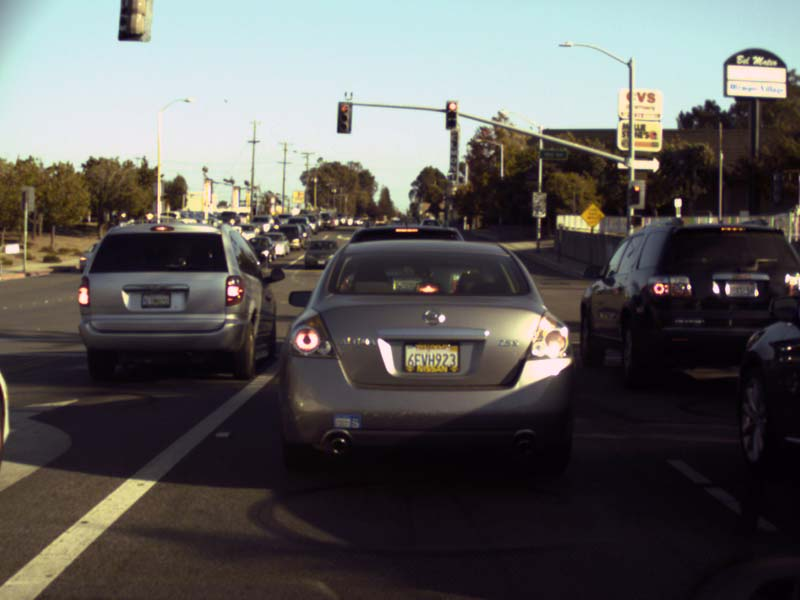Red: (338, 103, 351, 133), (447, 100, 458, 130), (632, 186, 639, 202)
